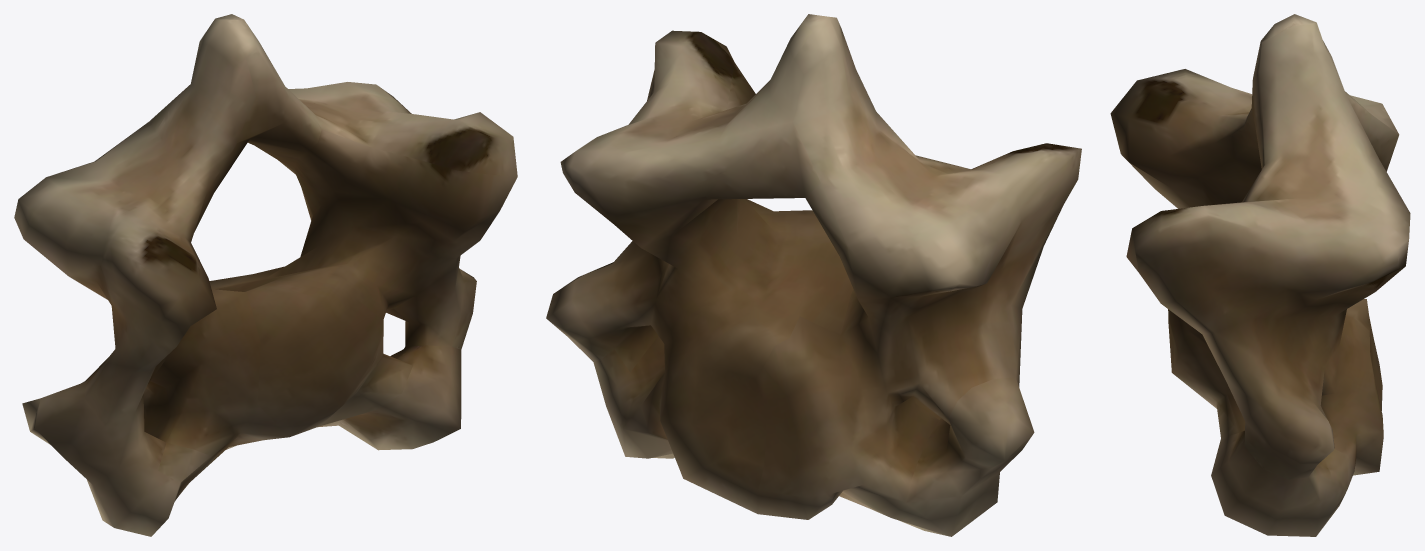
3 renders of one model, left to right at view 1: azimuth 30°, elevation 25°; view 2: azimuth 150°, elevation 25°; view 3: azimuth 270°, elevation 25°, orthographic. The views are drawn at different scales.
Parts seen in each view (by area): view 1: C11:Group20513; view 2: C11:Group20513; view 3: C11:Group20513.
Boxes of the visible parts, <box> form: C11:Group20513: <box>14,14,517,536</box>; C11:Group20513: <box>546,14,1081,536</box>; C11:Group20513: <box>1110,14,1410,536</box>.
Size of the model in its own units: 34.14 by 34.76 by 20.7.
1 material, 1 textured.
